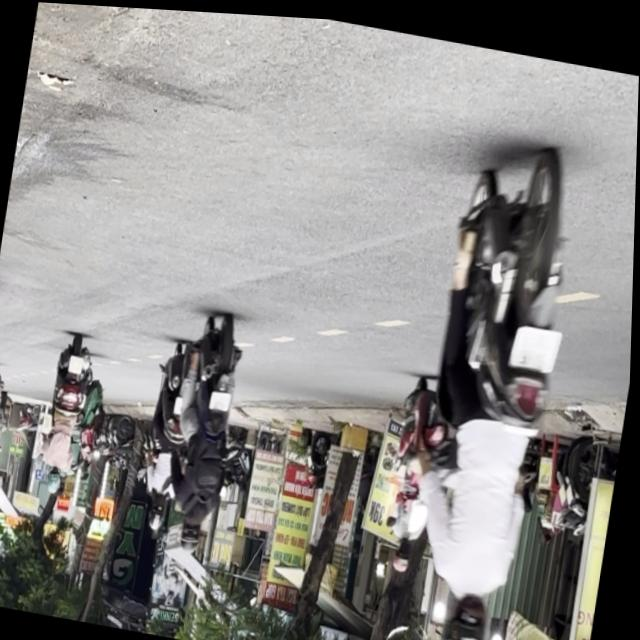helmet: (435, 581, 495, 640), (181, 514, 206, 554), (395, 534, 416, 568)
licenseplate: (381, 125, 595, 640), (162, 305, 253, 558), (378, 364, 455, 572)
nohelmet: (509, 317, 563, 368), (211, 387, 232, 408)
